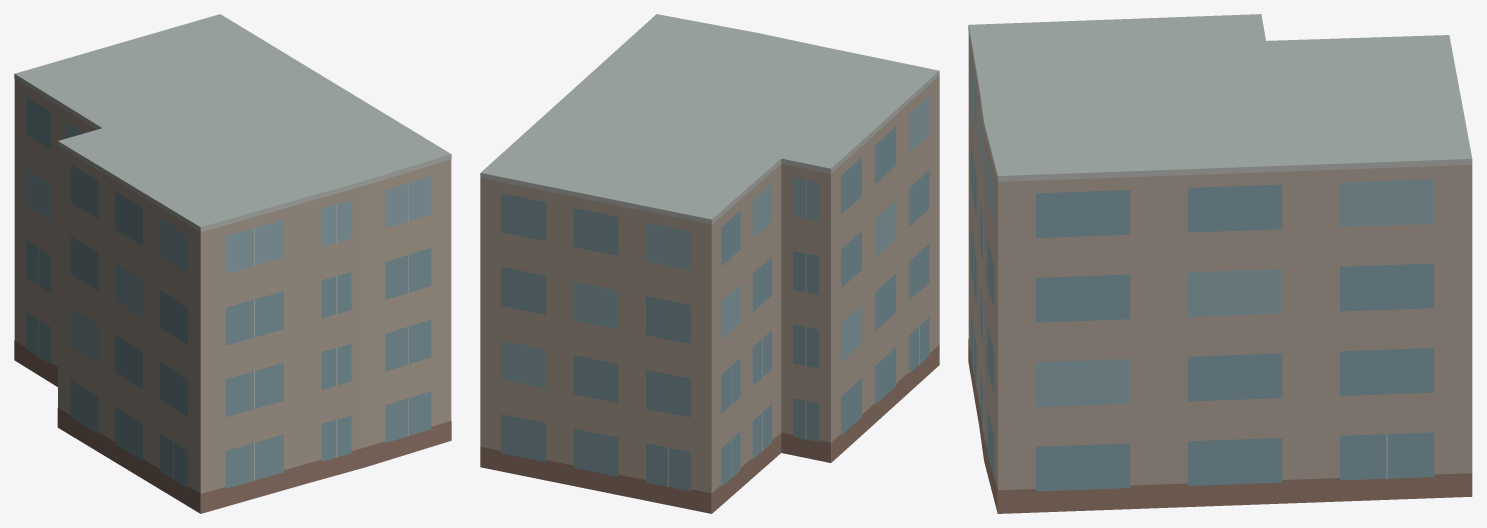
The model's file is survey-upis-32735004.glb.
The picture shows the model from 3 angles, left to right: view 1: azimuth 30°, elevation 25°; view 2: azimuth 150°, elevation 25°; view 3: azimuth 270°, elevation 25°; orthographic projection. The views are drawn at different scales.
Parts seen in each view (by area): view 1: survey-upis-32735004.tmp; view 2: survey-upis-32735004.tmp; view 3: survey-upis-32735004.tmp.
Boxes of the visible parts, x1=… form: survey-upis-32735004.tmp: x1=14, y1=14, x2=451, y2=513; survey-upis-32735004.tmp: x1=480, y1=14, x2=939, y2=513; survey-upis-32735004.tmp: x1=968, y1=14, x2=1472, y2=513.
Bounding box in the file's own units: 14.52 × 14.1 × 19.07.
